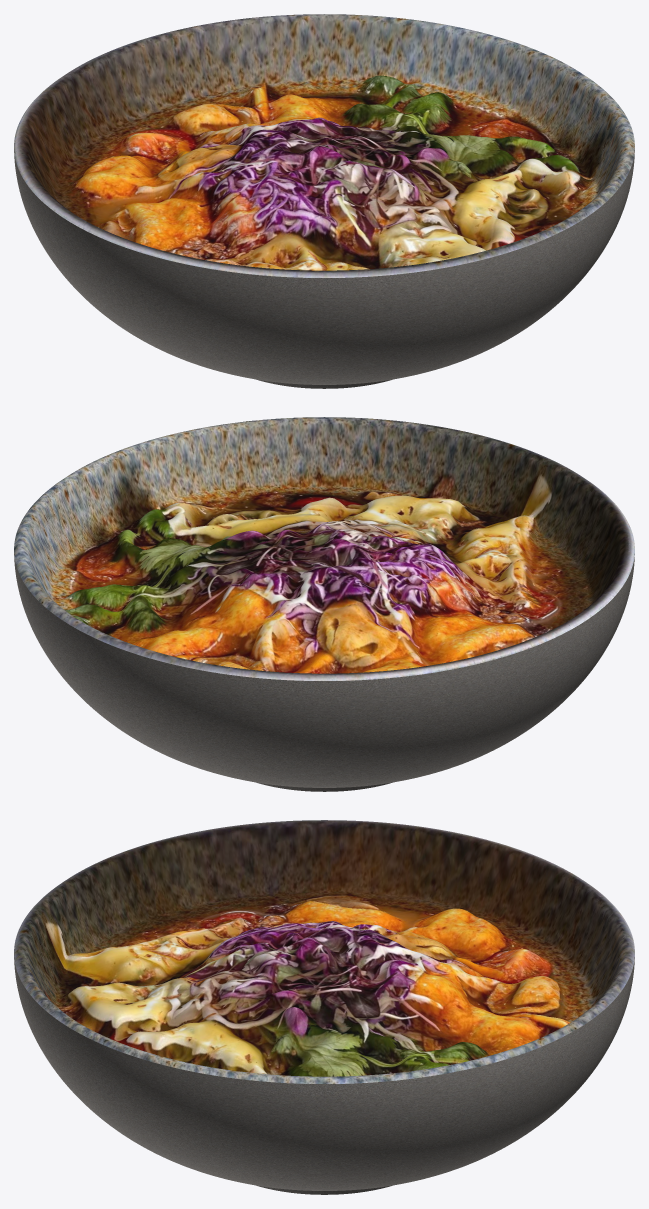
File: dish.glb
3 views of the same model, one above another, from view 1: azimuth 30°, elevation 25°; view 2: azimuth 150°, elevation 25°; view 3: azimuth 270°, elevation 25° (orthographic).
Parts seen in each view (by area): view 1: NoodleBowl; view 2: NoodleBowl; view 3: NoodleBowl.
Boxes of the visible parts, x1,y1,x2,y2 form: NoodleBowl: [14, 14, 634, 388]; NoodleBowl: [14, 417, 634, 791]; NoodleBowl: [14, 820, 634, 1194].
Size of the model in its own units: 0.22 by 0.0775 by 0.22.
2 materials, 2 textured.
